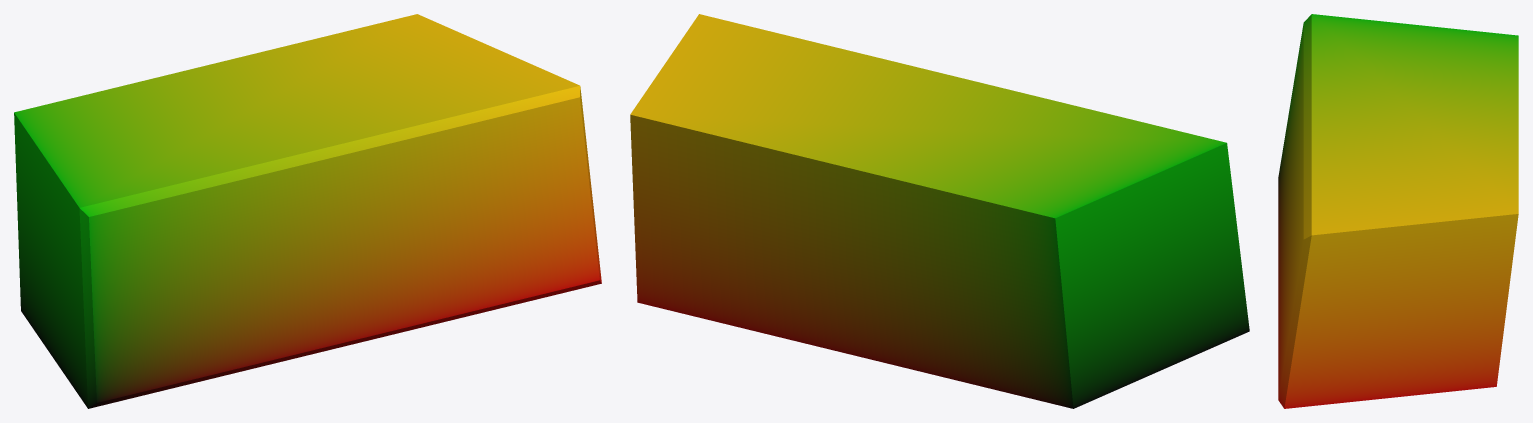
File: ConeBlock-n13-Bevel.fbx
3 views of the same model, side by side, from view 1: azimuth 30°, elevation 25°; view 2: azimuth 150°, elevation 25°; view 3: azimuth 270°, elevation 25° (orthographic). The views are drawn at different scales.
Visible parts, largest first — view 1: Cone; view 2: Cone; view 3: Cone.
Boxes of the visible parts, <box> form: Cone: <box>14,14,601,408</box>; Cone: <box>630,14,1249,408</box>; Cone: <box>1278,14,1518,408</box>.
Bounding box in the file's own units: 713 × 250 × 319.
